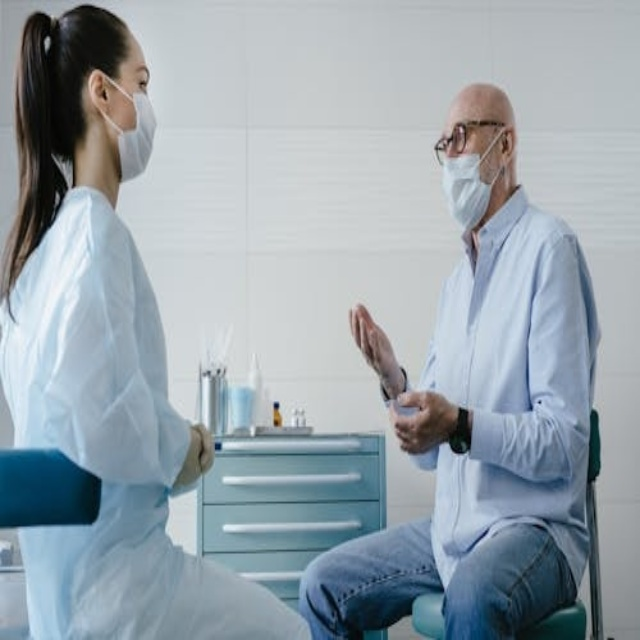Gafas: (433, 120, 508, 163)
Mascara: (440, 129, 506, 231), (98, 73, 157, 182)
Sin_gafas: (118, 60, 156, 96)
Sin_guantes: (347, 296, 404, 392), (389, 386, 451, 461)
